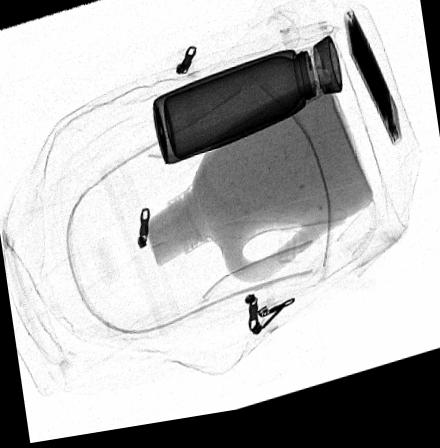Powerbank: (342, 20, 401, 160)
